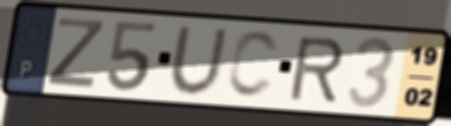3: (345, 35, 400, 111)
5: (104, 19, 160, 94)
C: (224, 28, 283, 102)
R: (286, 35, 348, 104)
U: (167, 24, 231, 98)
Z: (43, 14, 108, 91)
